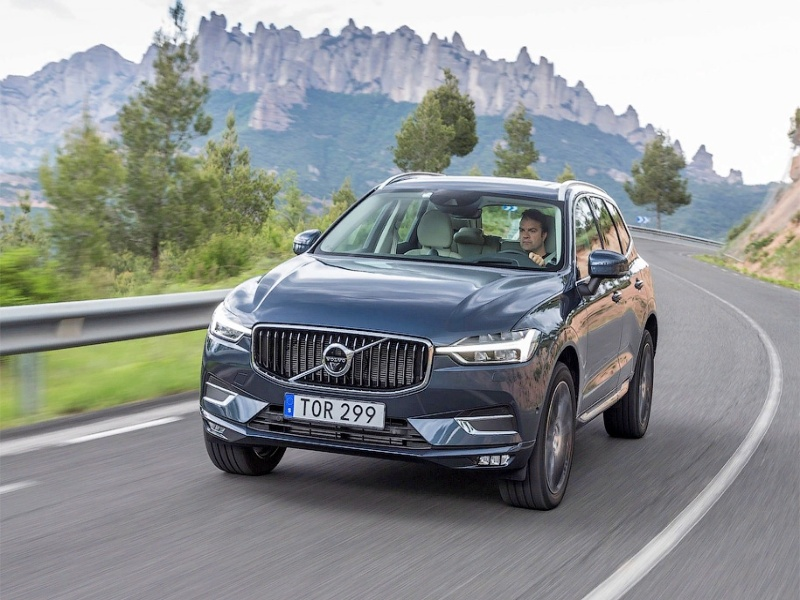car: (199, 172, 659, 511)
person: (518, 208, 555, 266)
plate: (282, 392, 385, 430)
